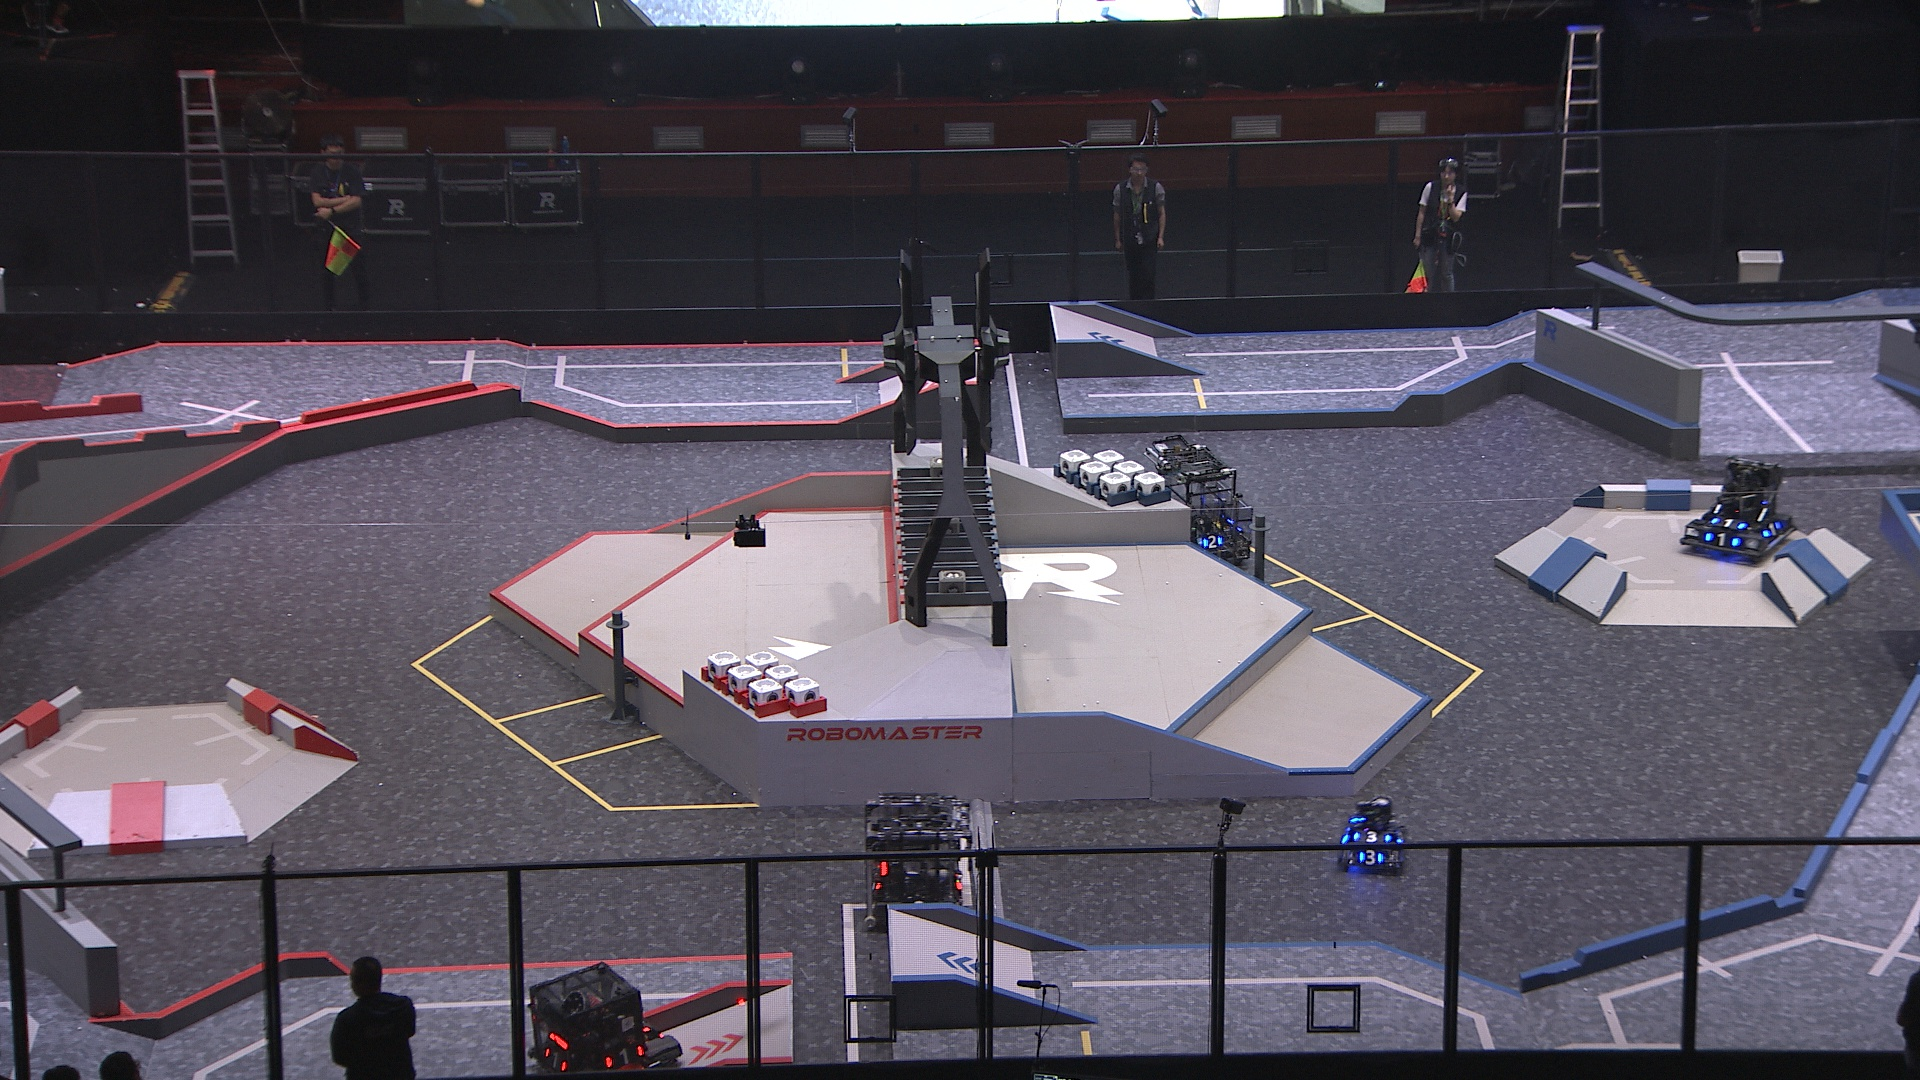armor: (604, 1044, 647, 1068), (1708, 513, 1746, 531), (1352, 828, 1391, 843), (1705, 531, 1738, 547), (542, 1048, 564, 1071), (1356, 847, 1385, 864), (1760, 522, 1784, 541), (1203, 535, 1225, 547)
car: (520, 963, 680, 1080), (856, 790, 978, 932), (1135, 434, 1258, 571), (1673, 455, 1797, 560), (1335, 794, 1414, 880)
